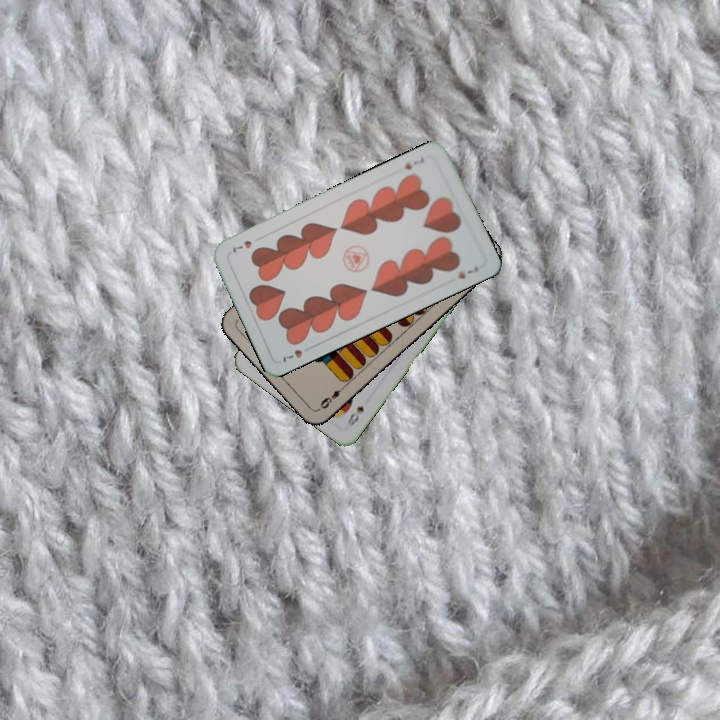E9: (316, 381, 349, 412)
H7: (277, 342, 315, 365), (401, 153, 427, 172)
S8: (343, 402, 367, 429)
